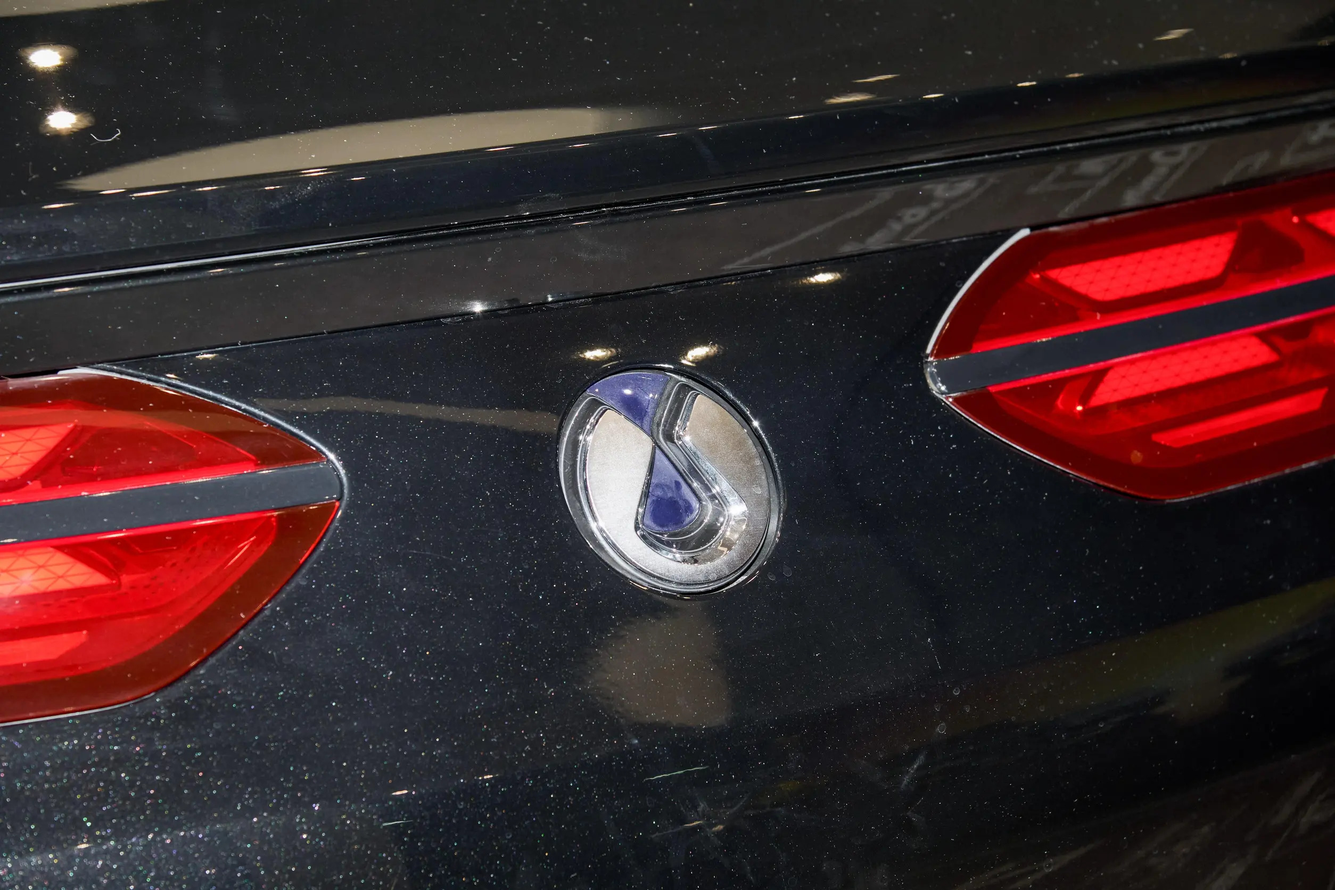DENZA: (561, 371, 770, 582)
